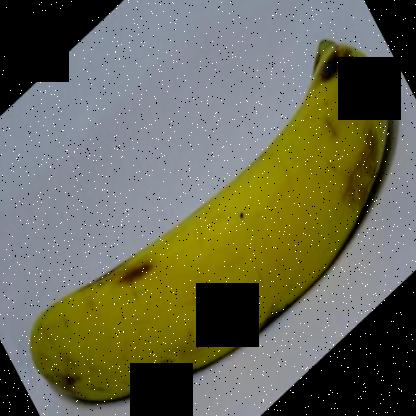freshripe: (17, 35, 394, 404)
